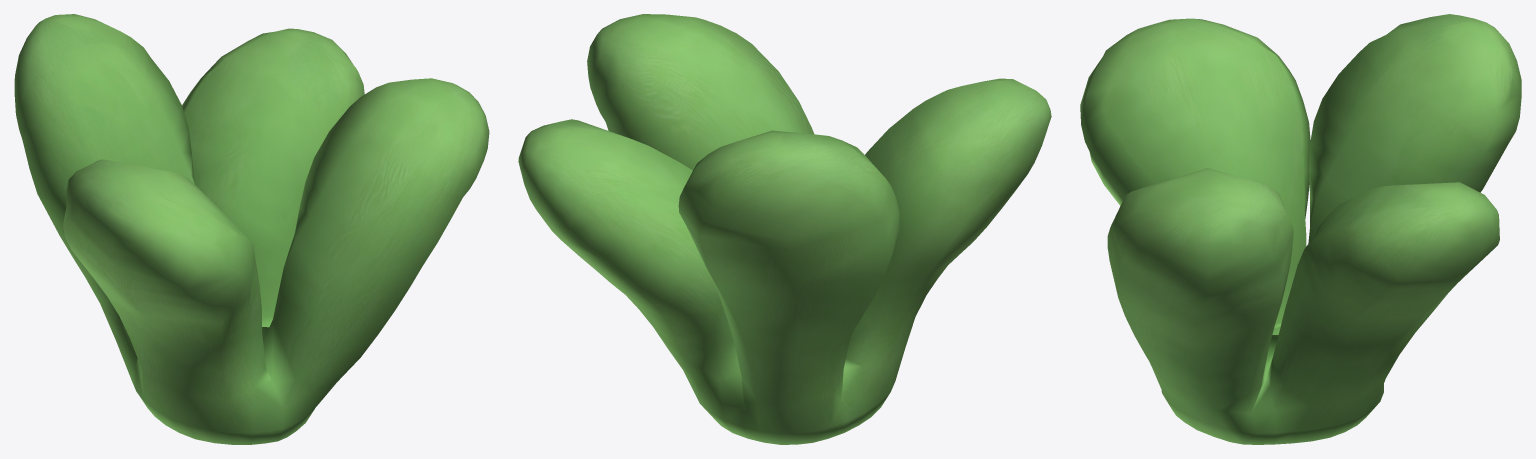
The model's file is palm_bush.glb.
3 renders of one model, left to right at view 1: azimuth 30°, elevation 25°; view 2: azimuth 150°, elevation 25°; view 3: azimuth 270°, elevation 25°, orthographic. The views are drawn at different scales.
Parts seen in each view (by area): view 1: tripo_node_a523e05b-271e-452f-8e13-c99342860ca9; view 2: tripo_node_a523e05b-271e-452f-8e13-c99342860ca9; view 3: tripo_node_a523e05b-271e-452f-8e13-c99342860ca9.
Boxes of the visible parts, <box> form: tripo_node_a523e05b-271e-452f-8e13-c99342860ca9: <box>14,14,489,444</box>; tripo_node_a523e05b-271e-452f-8e13-c99342860ca9: <box>518,14,1051,444</box>; tripo_node_a523e05b-271e-452f-8e13-c99342860ca9: <box>1080,14,1521,444</box>.
Bounding box in the file's own units: 0.998 × 0.791 × 0.9082.
Materials: 1 (1 with a texture image).
